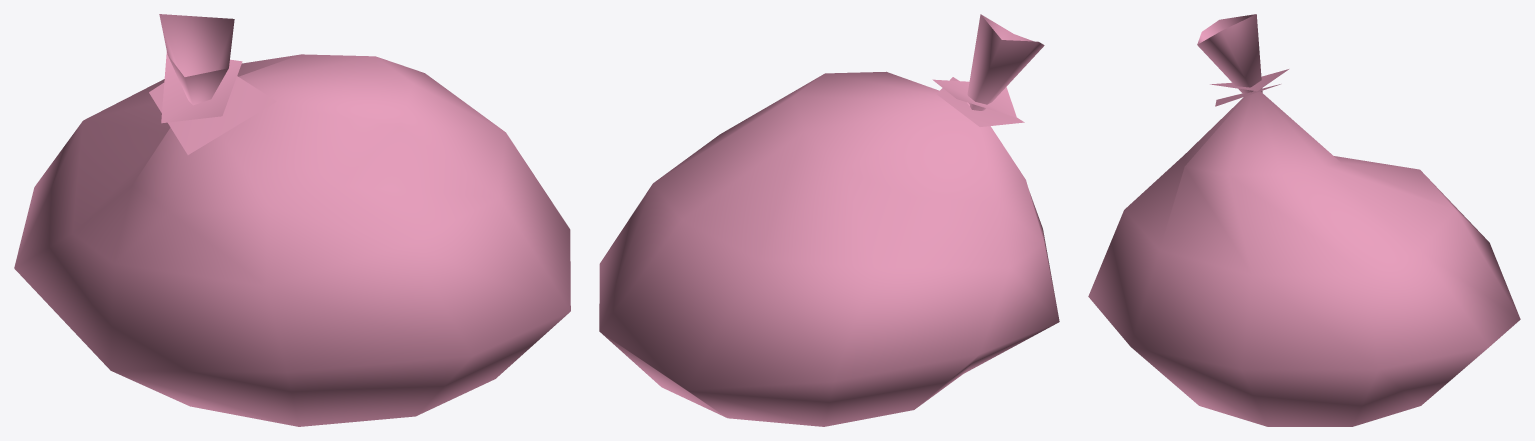
File: bag_grey.obj
The picture shows the model from 3 angles, left to right: view 1: azimuth 30°, elevation 25°; view 2: azimuth 150°, elevation 25°; view 3: azimuth 270°, elevation 25°; orthographic projection. The views are drawn at different scales.
Parts seen in each view (by area): view 1: Sphere02; view 2: Sphere02; view 3: Sphere02.
Boxes of the visible parts, <box> form: Sphere02: <box>14,14,570,426</box>; Sphere02: <box>599,14,1059,426</box>; Sphere02: <box>1088,14,1520,426</box>.
Size of the model in its own units: 174 by 156 by 200.
